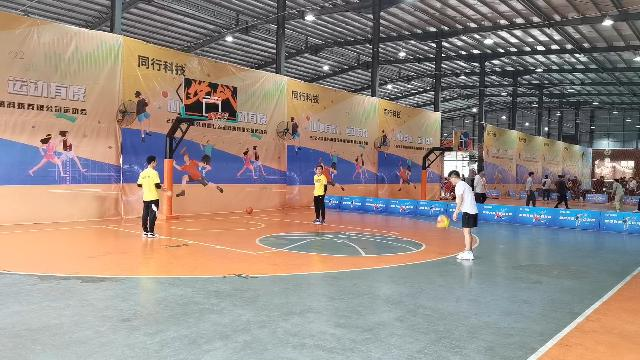ball: (437, 214, 449, 227), (246, 207, 252, 214)
basket: (209, 112, 229, 126)
